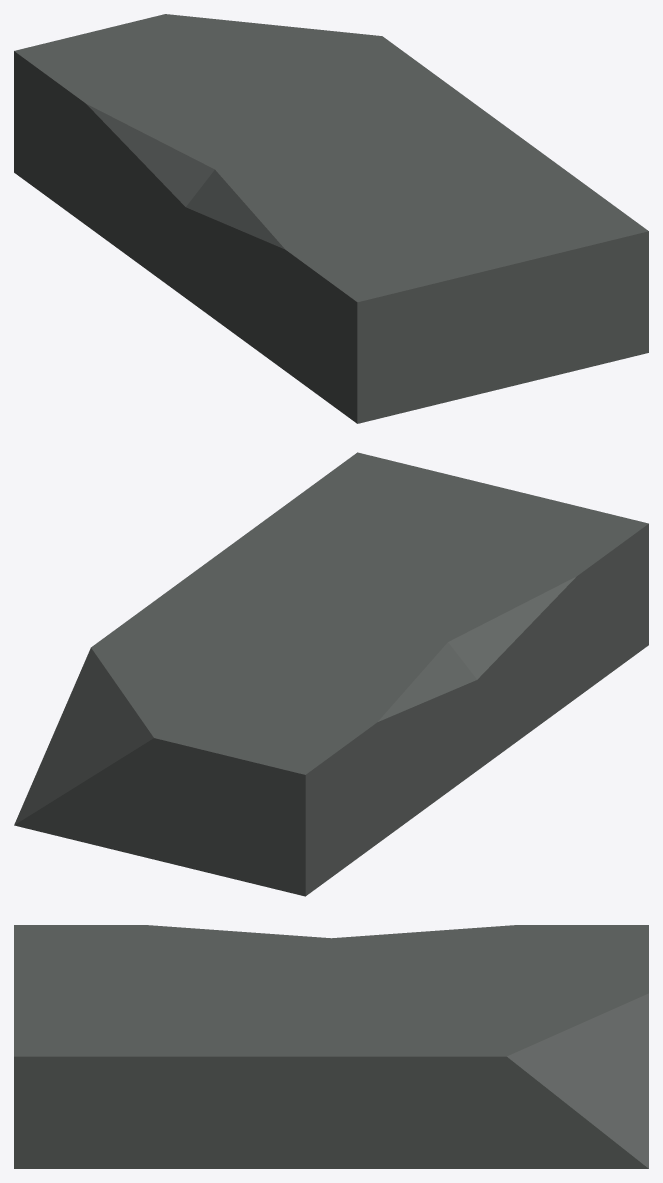
The model's file is SM_Env_Brick_06.fbx.
3 renders of one model, top to bottom at view 1: azimuth 30°, elevation 25°; view 2: azimuth 150°, elevation 25°; view 3: azimuth 270°, elevation 25°, orthographic. The views are drawn at different scales.
Parts seen in each view (by area): view 1: SM_Env_Brick_06; view 2: SM_Env_Brick_06; view 3: SM_Env_Brick_06.
Part boxes in pixels (x1,y1,x2,y2): SM_Env_Brick_06: (14, 14, 648, 423); SM_Env_Brick_06: (14, 452, 648, 896); SM_Env_Brick_06: (14, 925, 648, 1168).
Size of the model in its own units: 38.94 by 15.53 by 79.48.
Materials: 1 (1 with a texture image).
